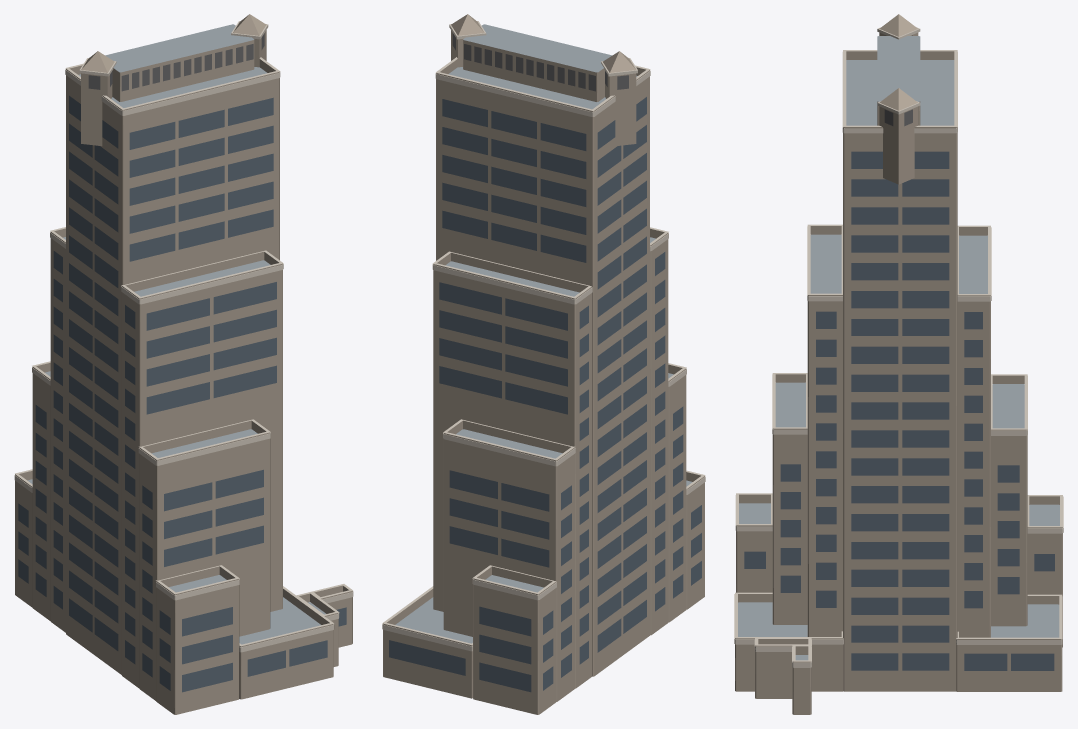
Rendered from phl-one-commerce-square.glb.
3 renders of one model, left to right at view 1: azimuth 30°, elevation 25°; view 2: azimuth 150°, elevation 25°; view 3: azimuth 270°, elevation 25°, orthographic.
Visible parts, largest first — view 1: One Commerce Square; view 2: One Commerce Square; view 3: One Commerce Square.
Part boxes in pixels (x1,y1,x2,y2): One Commerce Square: (14, 14, 353, 714); One Commerce Square: (382, 14, 705, 714); One Commerce Square: (734, 14, 1063, 714).
Size of the model in its own units: 65.52 by 171 by 84.54.
